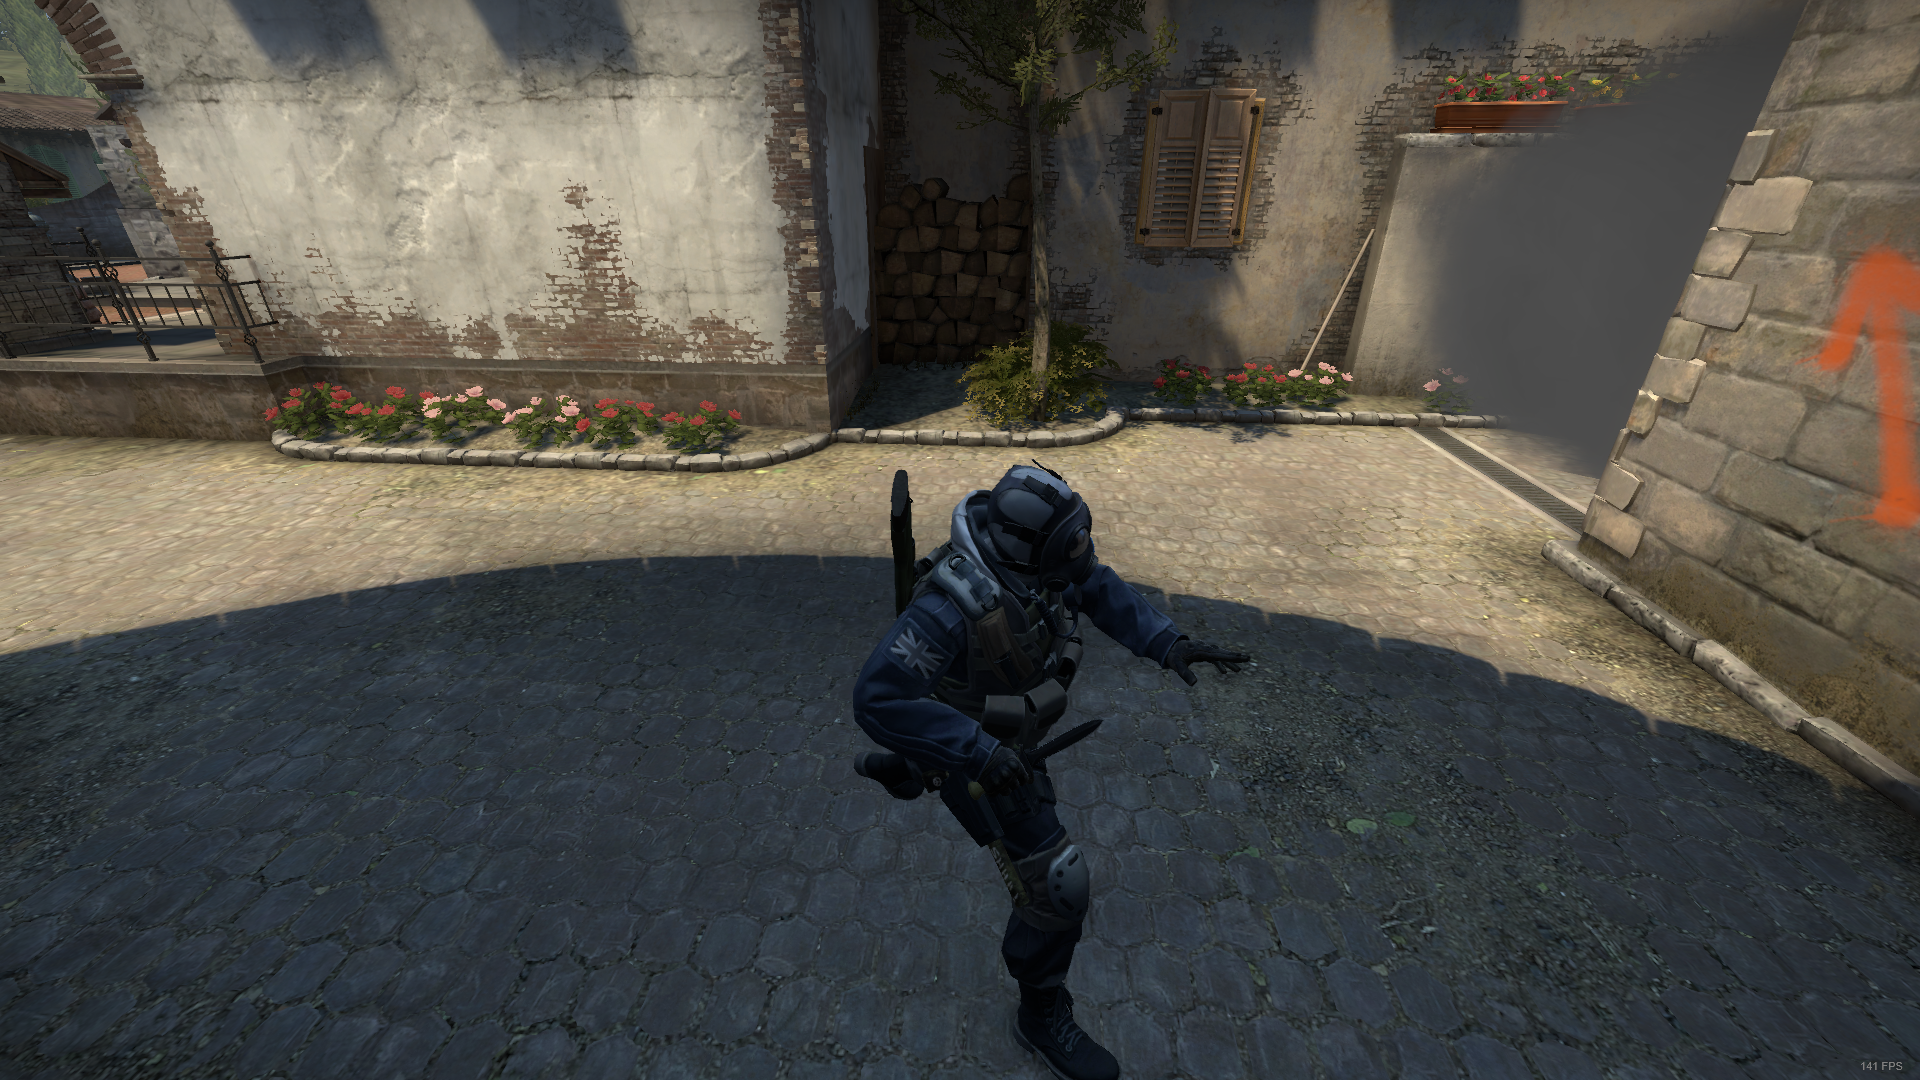ct: (855, 463, 1254, 1080)
